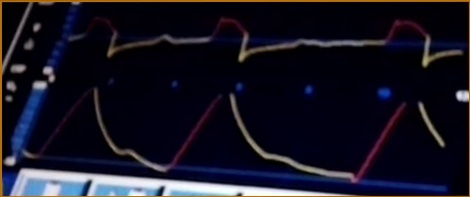Ineffective_effort Flow: (69, 10, 461, 67)
Ineffective_effort Volume: (26, 88, 443, 182)
